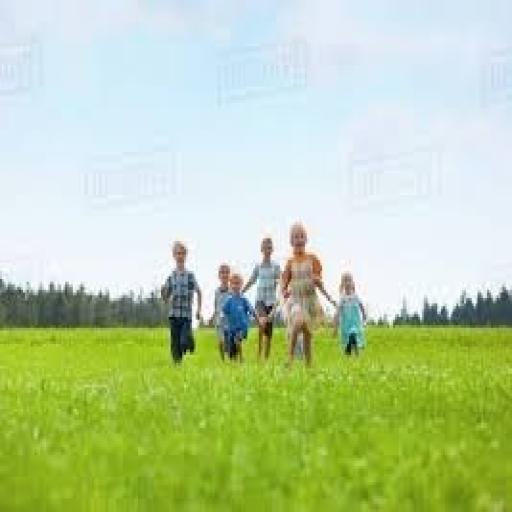running: (276, 220, 328, 371), (157, 236, 205, 368), (240, 233, 286, 366), (217, 268, 259, 366), (328, 268, 370, 363)
